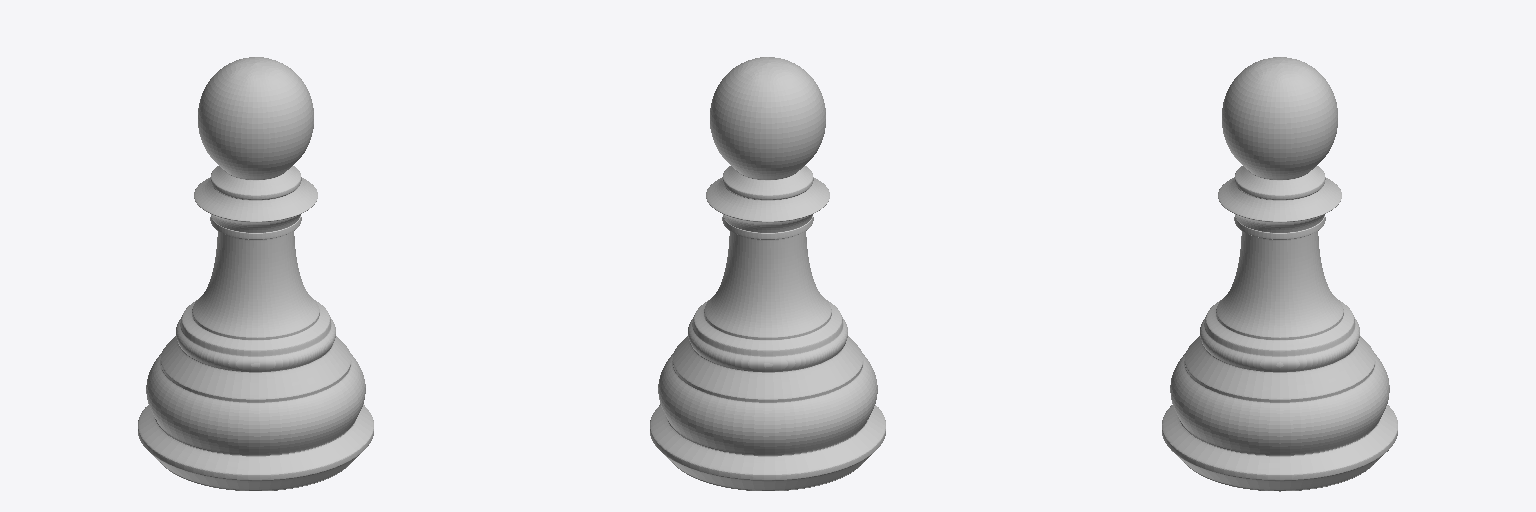
Rendered from pawn.obj.
The picture shows the model from 3 angles: view 1: azimuth 30°, elevation 25°; view 2: azimuth 150°, elevation 25°; view 3: azimuth 270°, elevation 25°; orthographic projection.
Parts seen in each view (by area): view 1: pawn; view 2: pawn; view 3: pawn.
Part boxes in pixels (x1,y1,x2,y2): pawn: (138, 57, 373, 490); pawn: (650, 57, 885, 490); pawn: (1162, 57, 1397, 491).
Size of the model in its own units: 4.47 by 8.03 by 4.47.